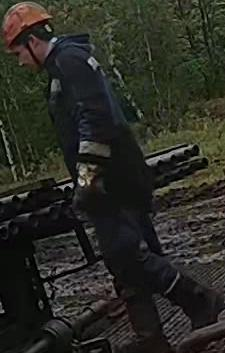gloves: (61, 141, 113, 220)
helmet: (1, 1, 53, 50)
vest: (43, 33, 154, 214)
